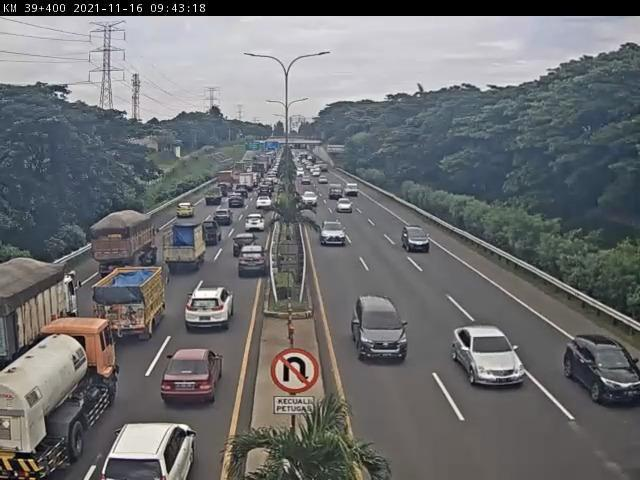car: (566, 331, 640, 412), (101, 422, 198, 480), (454, 323, 529, 392), (350, 294, 409, 364), (161, 348, 225, 404), (189, 288, 233, 340), (238, 246, 269, 277), (402, 225, 433, 253), (198, 222, 222, 249), (322, 219, 346, 244), (235, 235, 260, 256), (244, 213, 266, 231), (214, 209, 234, 226), (177, 204, 195, 219), (337, 198, 354, 213)
truck: (2, 319, 117, 479), (1, 258, 85, 376), (92, 211, 163, 288), (100, 263, 167, 336), (163, 226, 205, 272)
